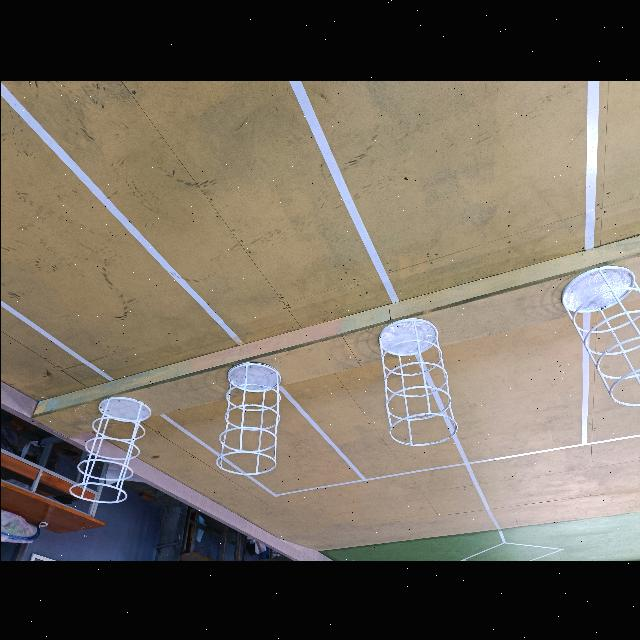S: (558, 267, 639, 405), (374, 318, 456, 445), (70, 394, 150, 502), (214, 362, 281, 473)
